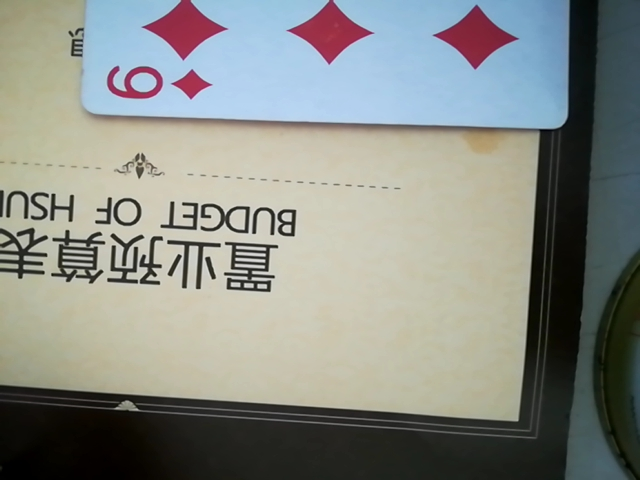fk 6: (67, 0, 584, 128)
